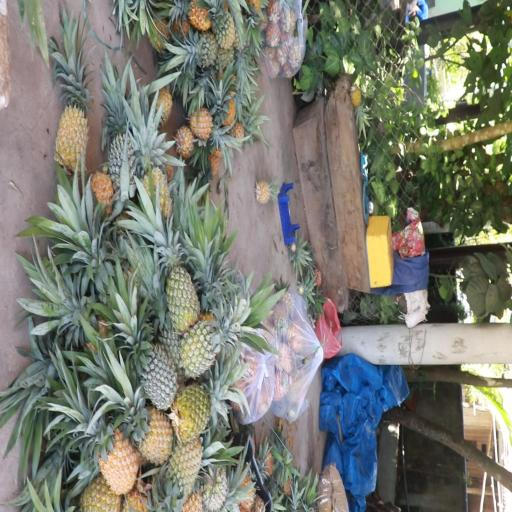------------------------------: (180, 300, 255, 373), (155, 226, 200, 326), (174, 366, 236, 437)
Pineapple - v8 v1: (78, 402, 139, 491), (54, 62, 92, 174), (142, 137, 181, 226), (124, 394, 176, 459), (164, 436, 205, 502), (188, 103, 239, 155)
